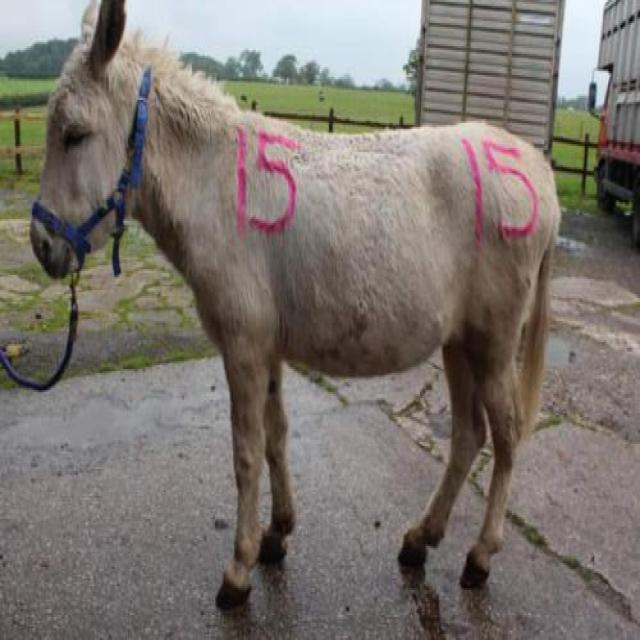Donkey: (29, 1, 560, 615)
